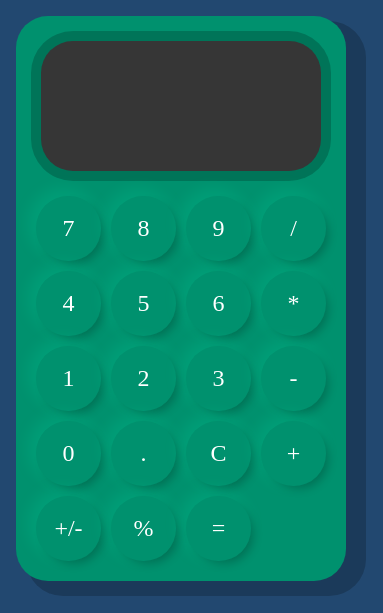
Scenario: Calculator performs subtraction
The width and height of the screenshot is (383, 613).
Click the button "5": click(144, 303) [111,270,176,336]
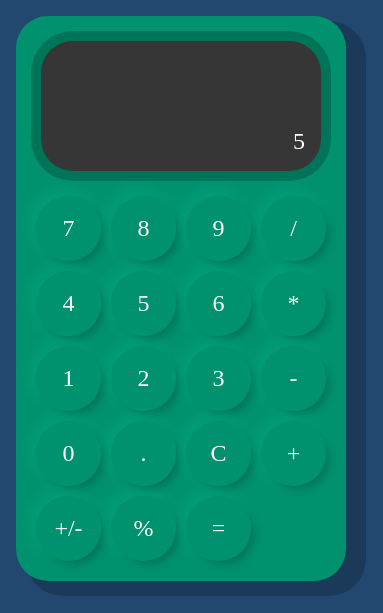
Click the button "-": click(294, 378) [261,346,326,410]
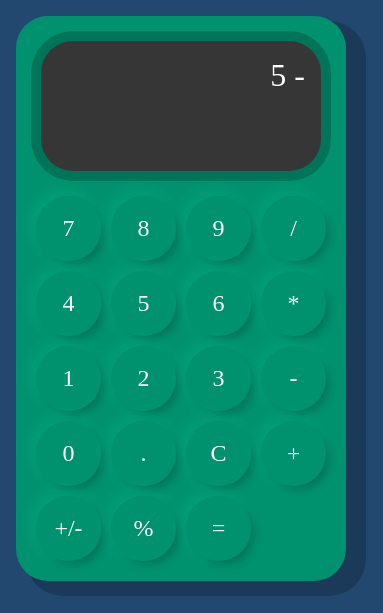
Click the button "2": click(144, 378) [111,346,176,410]
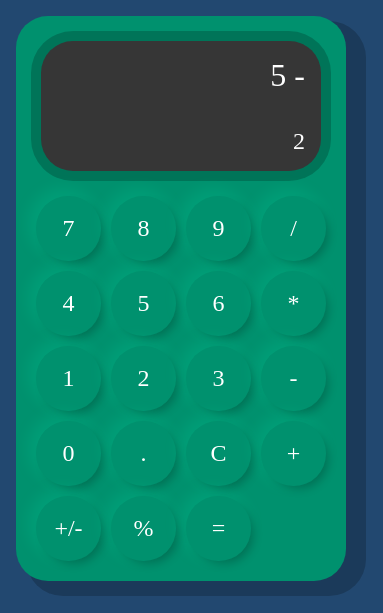
Click the button "=": click(218, 528) [186,496,251,560]
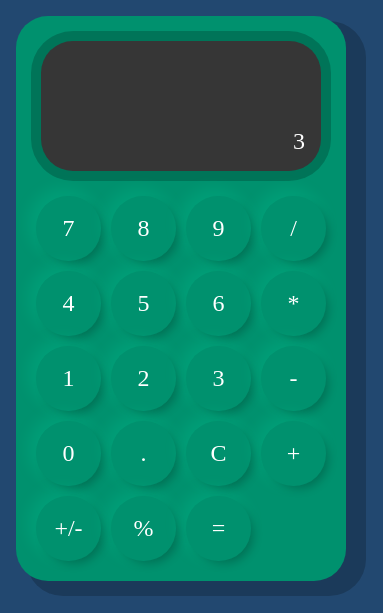
Expected: the text "3" is shown, [293,128,305,154]
